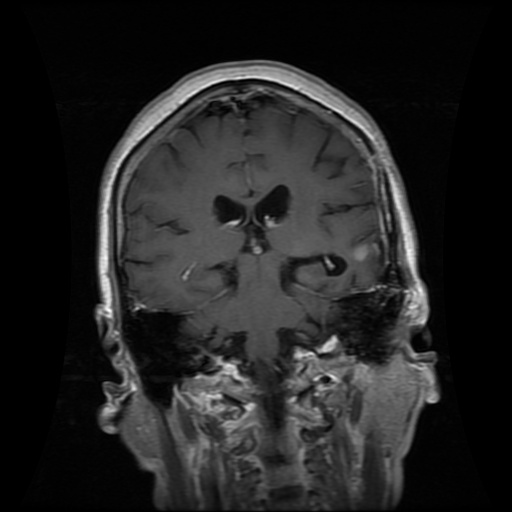glioma: (351, 233, 385, 261)
